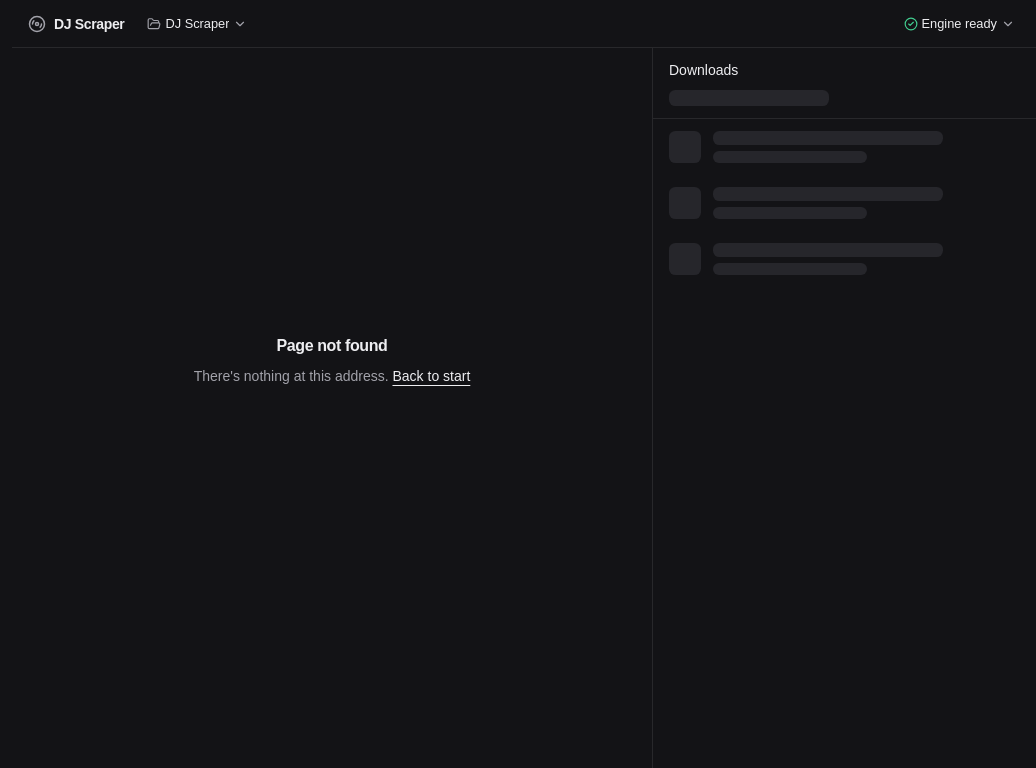
Test: the shell › shows Page not found for an unknown address, with a way back
The image size is (1036, 768).
Check: the heading "Page not found" is shown, box [277, 334, 387, 358]
Check: the element "Downloads" is shown, box [652, 48, 1035, 767]
Step 1. Click the link "Back to start" → (431, 376), box [392, 368, 470, 384]
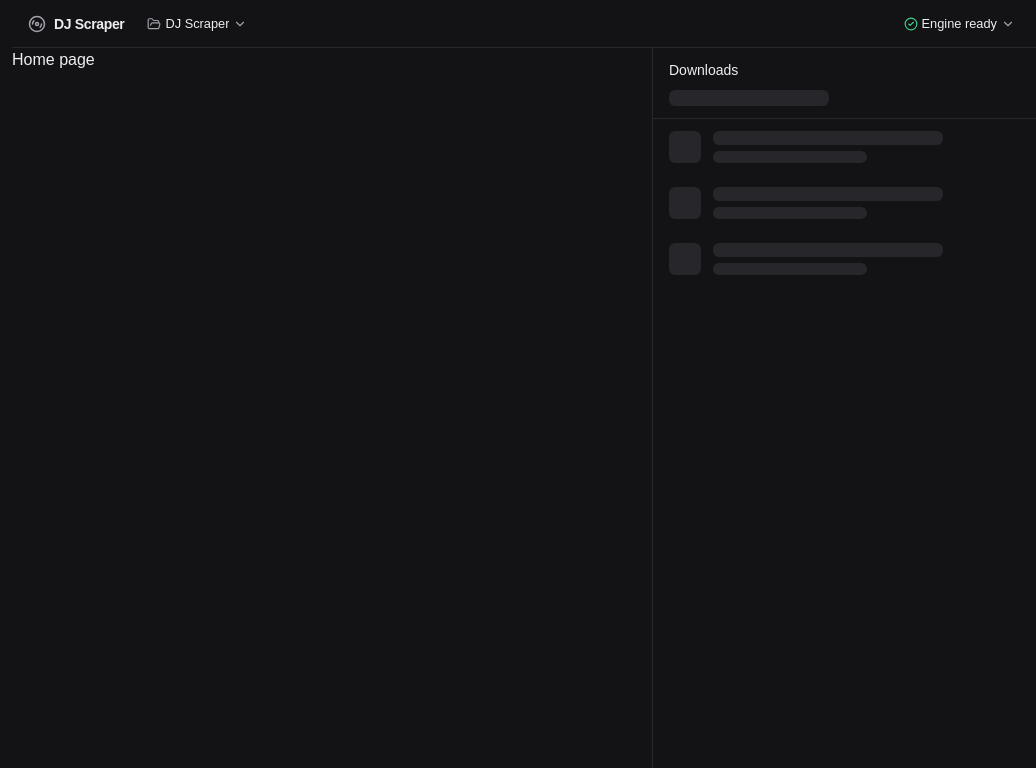
Check: the heading "Home page" is shown, box [12, 51, 95, 68]
